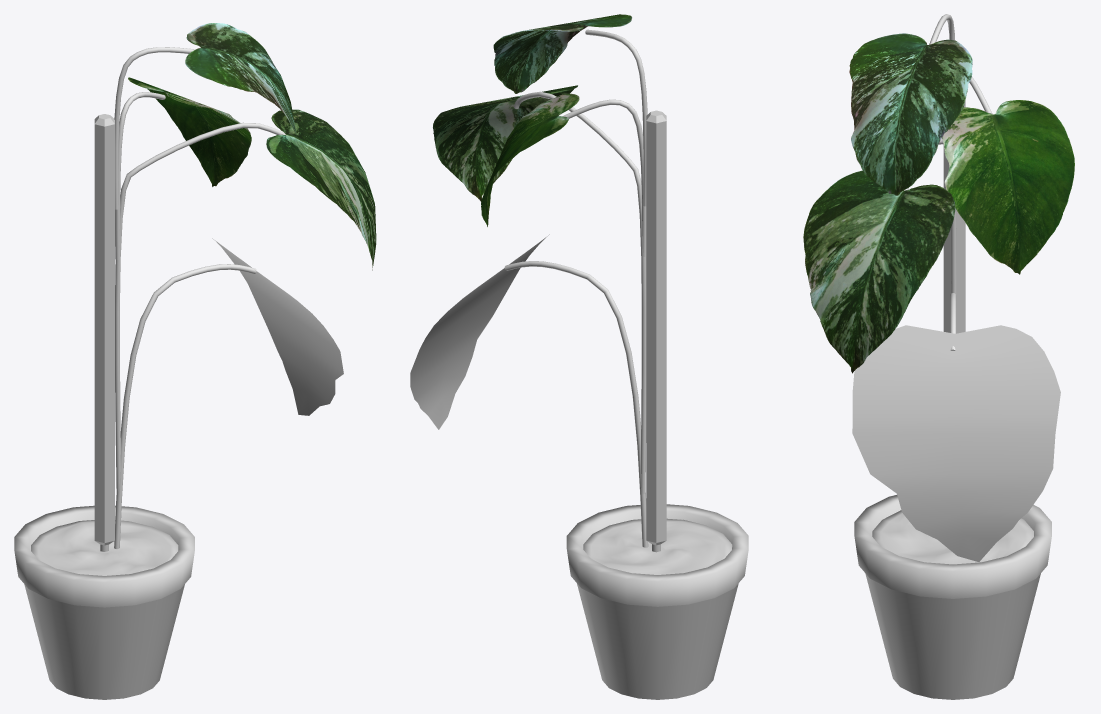
File: MonsteraVariegata.fbx
The picture shows the model from 3 angles, left to right: view 1: azimuth 30°, elevation 25°; view 2: azimuth 150°, elevation 25°; view 3: azimuth 270°, elevation 25°; orthographic projection. The views are drawn at different scales.
Parts seen in each view (by area): view 1: Cylinder001, Cylinder003, Leaf 2, Leaf 1, Cylinder002, Leaf 005, Leaf 4, Line002, Line001, Line004, Line003; view 2: Cylinder001, Cylinder003, Leaf 1, Leaf 2, Cylinder002, Leaf 005, Leaf 4, Line002, Line001, Line003, Line004; view 3: Leaf 1, Cylinder001, Leaf 2, Leaf 4, Leaf 005, Cylinder002, Cylinder003, Line002.
Boxes of the visible parts, x1,y1,x2,y2 form: Cylinder001: (14,505,194,699); Cylinder003: (94,114,114,551); Leaf 2: (266,109,376,270); Leaf 1: (212,238,343,415); Cylinder002: (31,520,178,575); Leaf 005: (185,23,296,136); Leaf 4: (128,77,251,186); Line002: (115,122,285,494); Line001: (114,264,256,548); Line004: (114,47,194,209); Line003: (115,92,165,259); Cylinder001: (566,504,748,699); Cylinder003: (646,110,666,552); Leaf 1: (410,234,549,429); Leaf 2: (433,85,577,201); Cylinder002: (583,518,732,574); Leaf 005: (493,14,632,93); Leaf 4: (481,93,579,226); Line002: (513,91,646,494); Line001: (504,261,648,547); Line003: (563,99,646,256); Line004: (585,29,647,206); Leaf 1: (852,325,1060,561); Cylinder001: (854,495,1051,699); Leaf 2: (803,170,955,373); Leaf 4: (942,100,1074,274); Leaf 005: (849,33,972,195); Cylinder002: (872,510,1033,564); Cylinder003: (943,100,965,333); Line002: (904,138,956,333).
Size of the model in its own units: 25.87 by 45.62 by 18.72.
